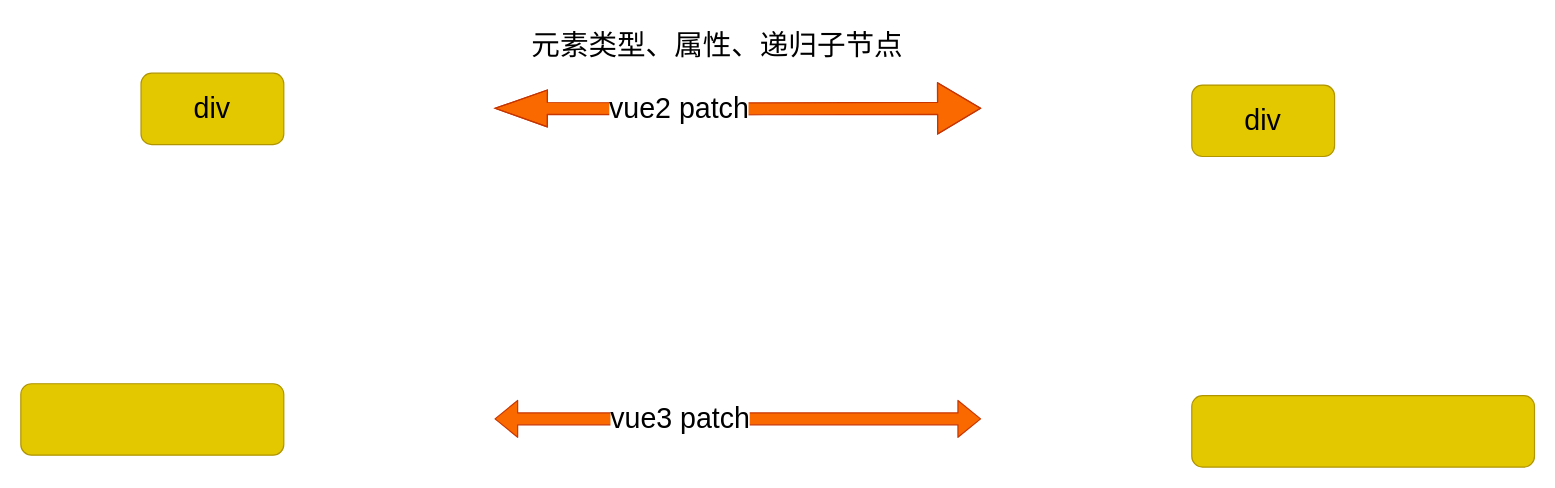
Some shapes in this 1555 by 488 pixel diagram are drawn without their labels. Here are the shapes that lost their labels. From the top down, the box of each, then its label:
(20, 383, 284, 455): div patchFlag:1
(1191, 394, 1535, 467): div patchFlag: 1
